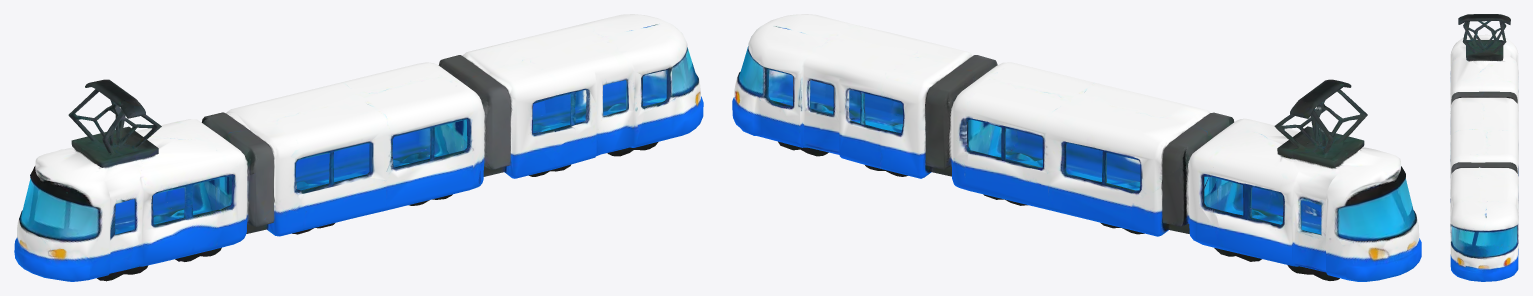
File: train_meshy.glb
3 renders of one model, left to right at view 1: azimuth 30°, elevation 25°; view 2: azimuth 150°, elevation 25°; view 3: azimuth 270°, elevation 25°, orthographic. The views are drawn at different scales.
Size of the model in its own units: 1.9 by 0.4692 by 0.2749.
Materials: 1 (1 with a texture image).
